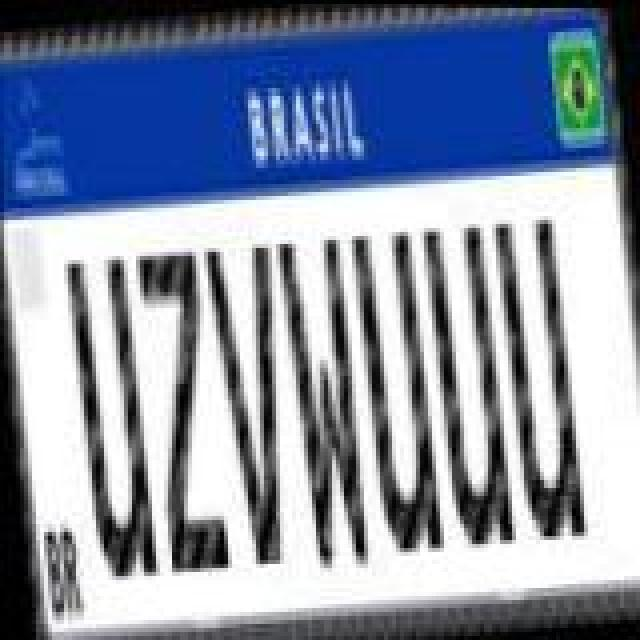U: (346, 220, 442, 556), (418, 218, 514, 554), (66, 252, 162, 584), (490, 212, 586, 544)
V: (204, 236, 304, 568)
W: (272, 232, 372, 576)
Z: (134, 244, 230, 576)
